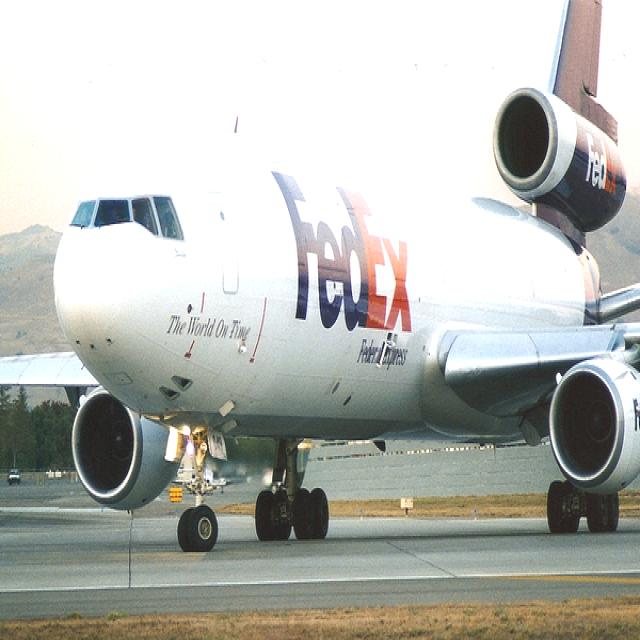Vehicle: (8, 468, 22, 486)
